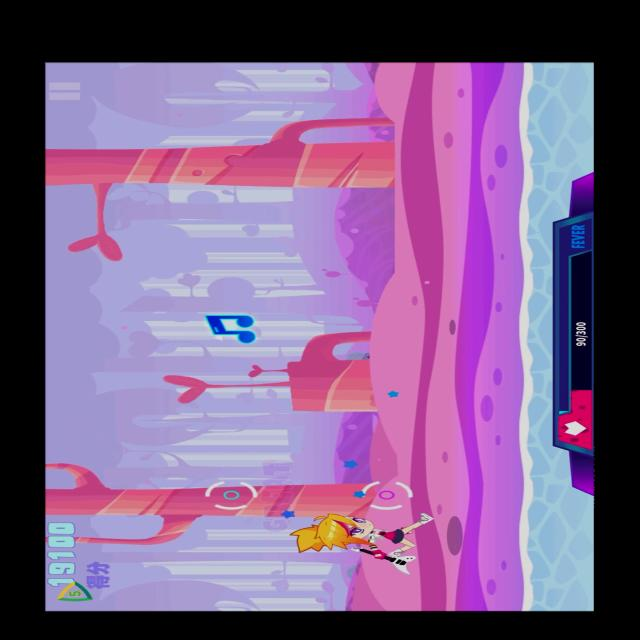incentive-blue Music note: (202, 306, 264, 346)
